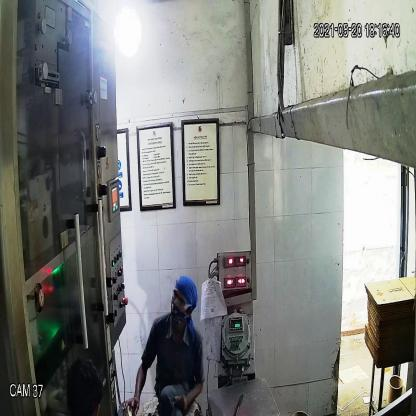goggles: (169, 288, 194, 313)
